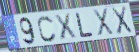9: (19, 16, 37, 46)
C: (37, 15, 58, 44)
L: (74, 12, 94, 39)
X: (53, 12, 79, 41), (110, 5, 134, 36), (92, 7, 116, 37)
